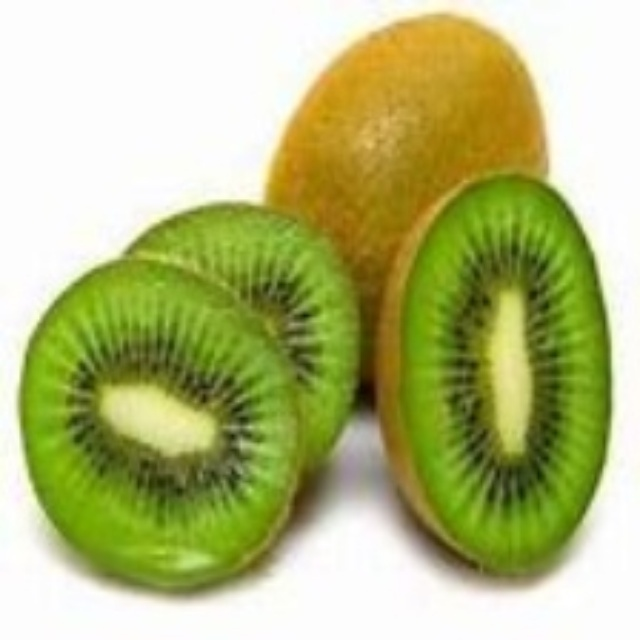kiwi: (22, 199, 349, 589), (268, 13, 547, 393), (360, 167, 612, 583)
